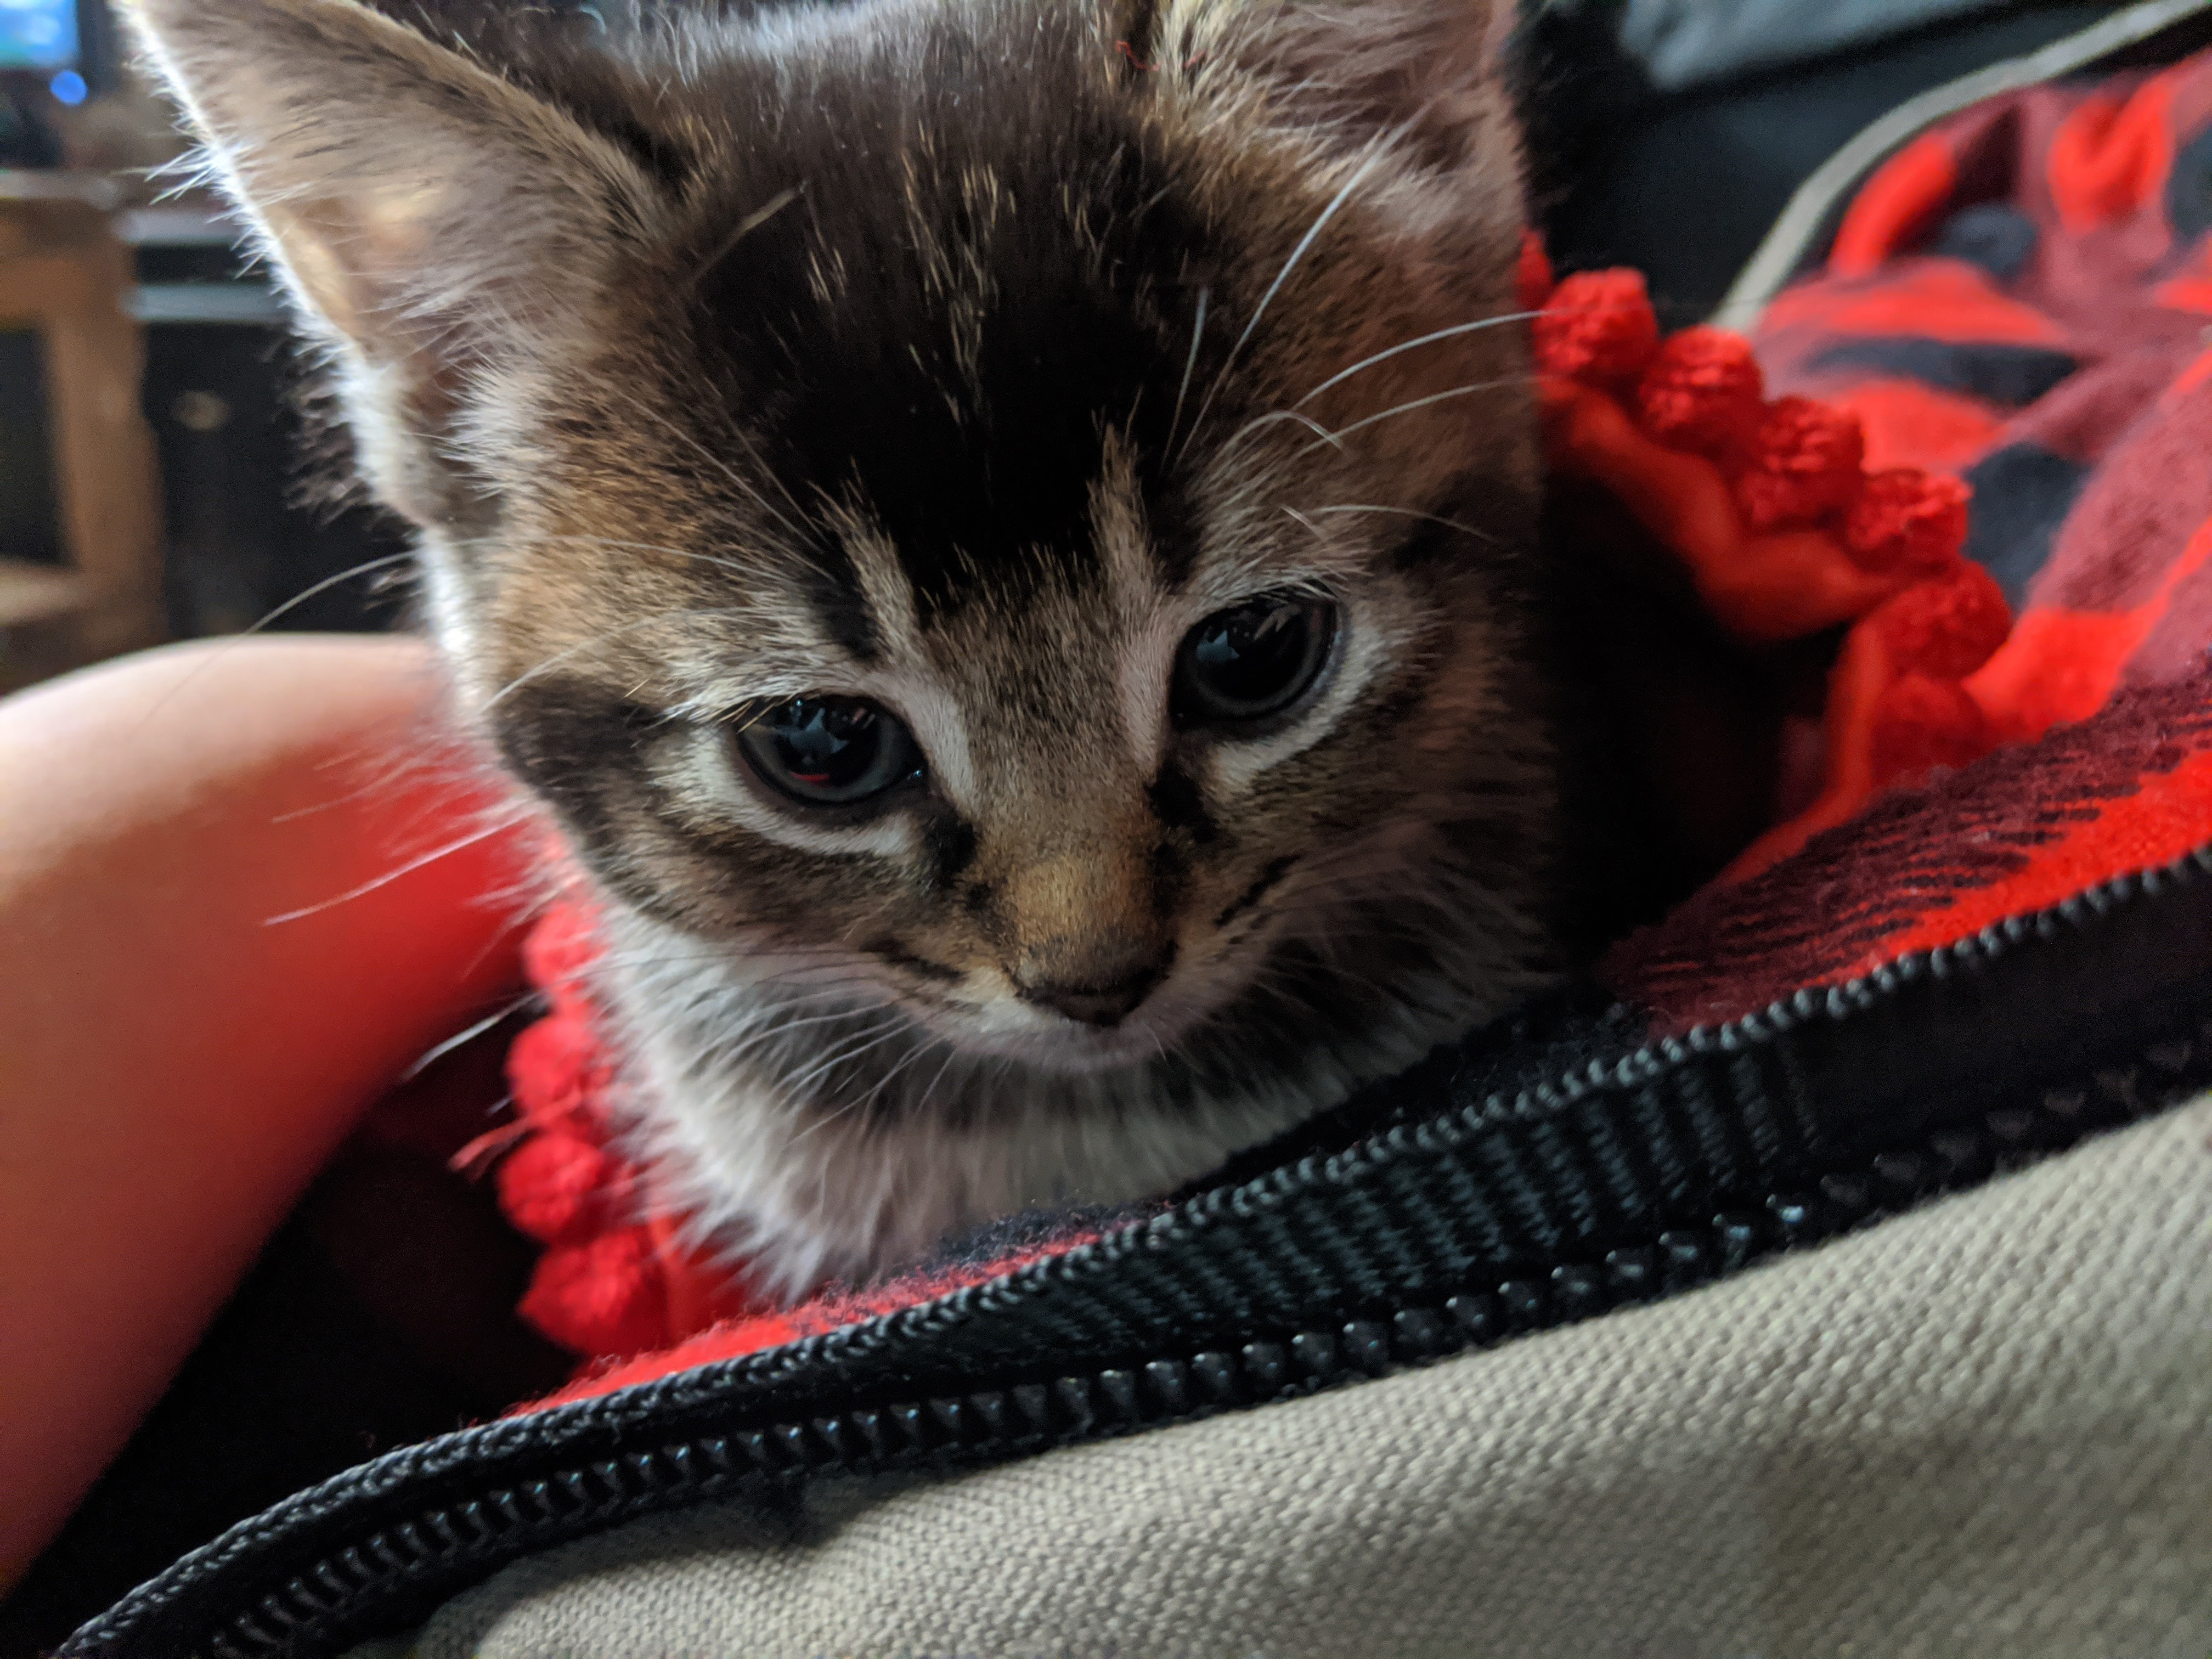luna: (118, 0, 1599, 1284)
